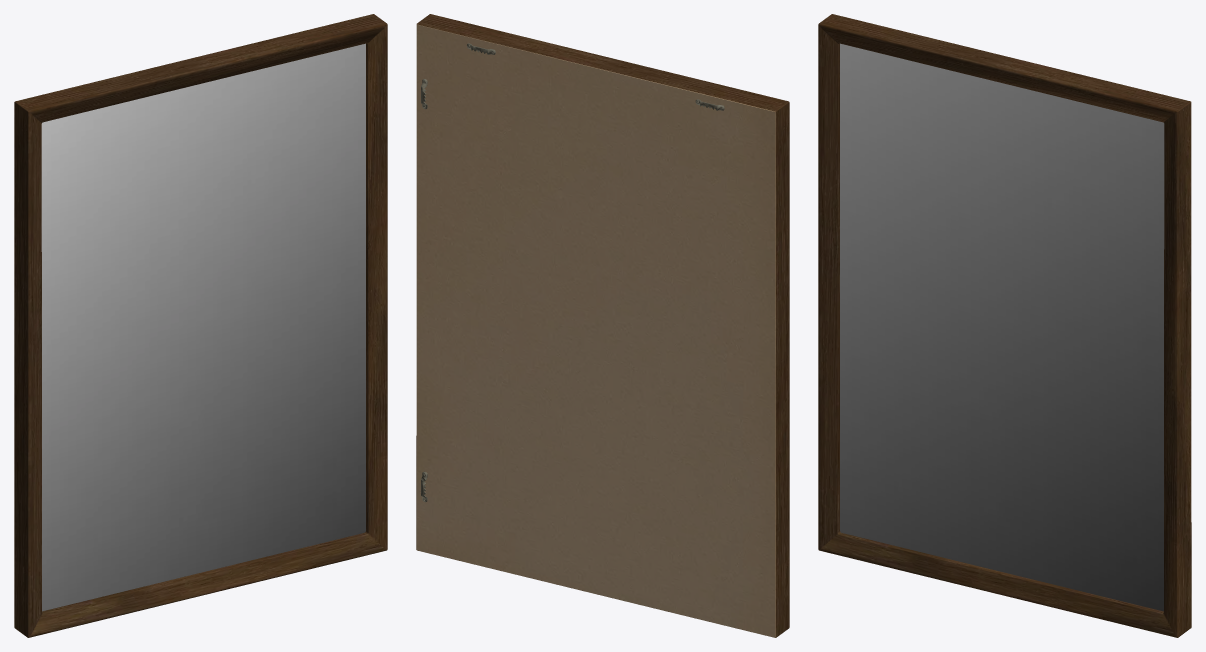
Rendered from B07RQMSJRX.glb.
3 views of the same model, side by side, from view 1: azimuth 30°, elevation 25°; view 2: azimuth 150°, elevation 25°; view 3: azimuth 330°, elevation 25° (orthographic).
Parts seen in each view (by area): view 1: RootNode; view 2: RootNode; view 3: RootNode.
Boxes of the visible parts, <box> form: RootNode: <box>14,14,387,637</box>; RootNode: <box>416,14,789,637</box>; RootNode: <box>818,14,1191,637</box>.
Size of the model in its own units: 0.508 by 0.711 by 0.039.
1 material, 1 textured.
